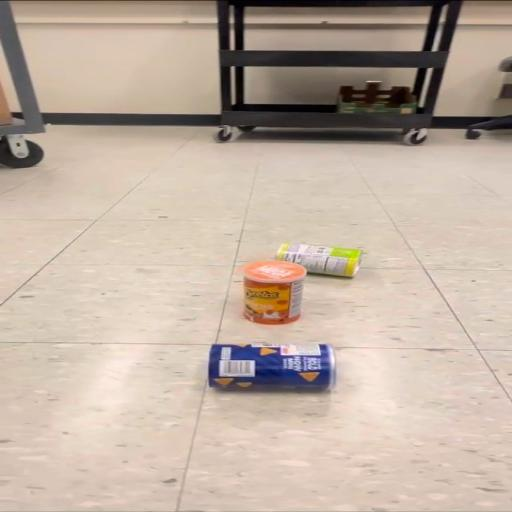pringle can: (208, 343, 335, 389), (244, 261, 307, 324), (277, 243, 362, 276)
